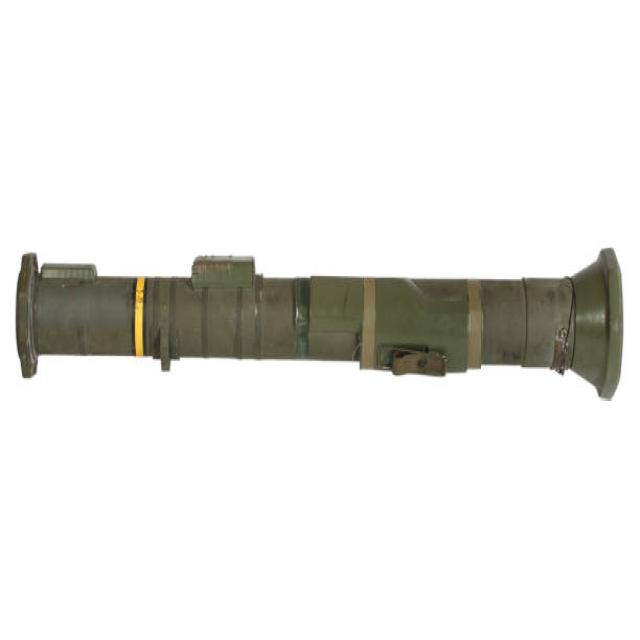bazooka: (9, 245, 634, 403)
